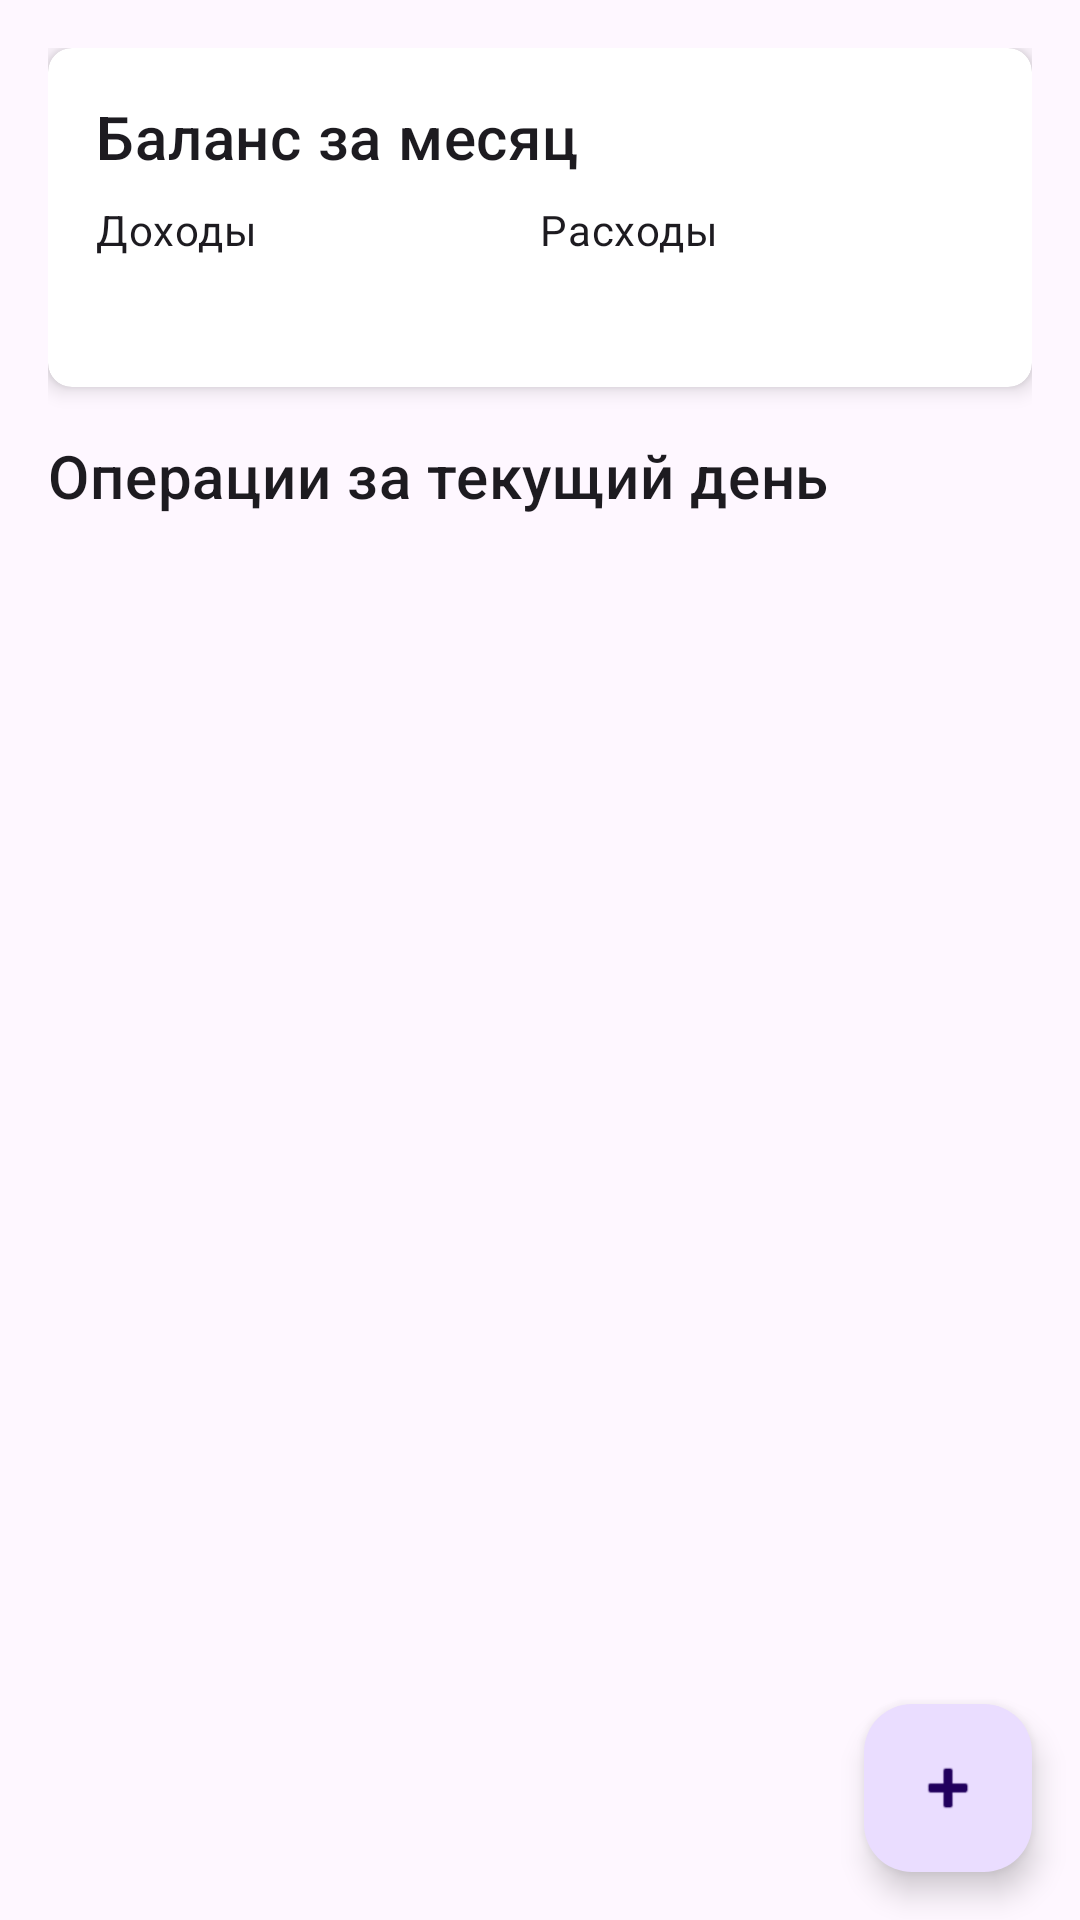

Where icons sit on this 1080w x 1920h app screen, as (x1=x1, y1=y1, x2=x2, y2=y2):
Добавить транзакцию: (x1=864, y1=1704, x2=1032, y2=1872)
